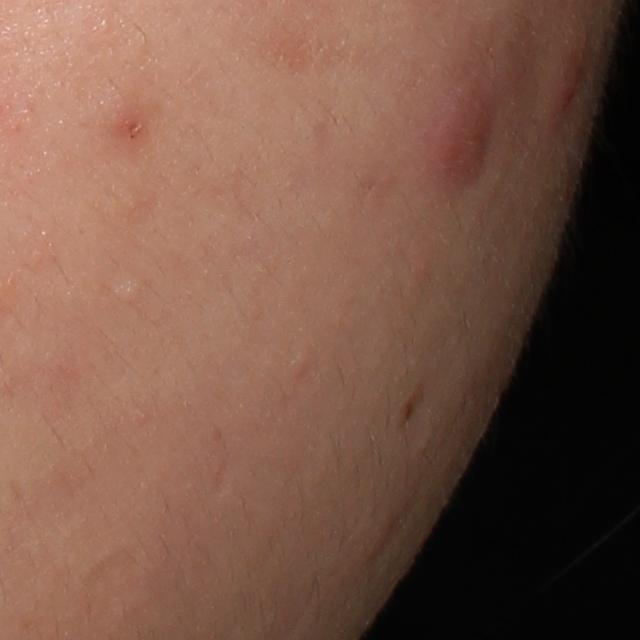comedo: (115, 279, 143, 304)
nevus: (394, 385, 427, 430)
papule: (542, 63, 584, 125)
